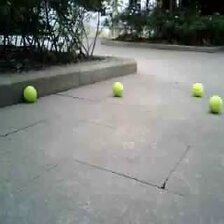tennis: (207, 95, 223, 112), (24, 85, 37, 101), (190, 82, 203, 96), (111, 82, 123, 95)
